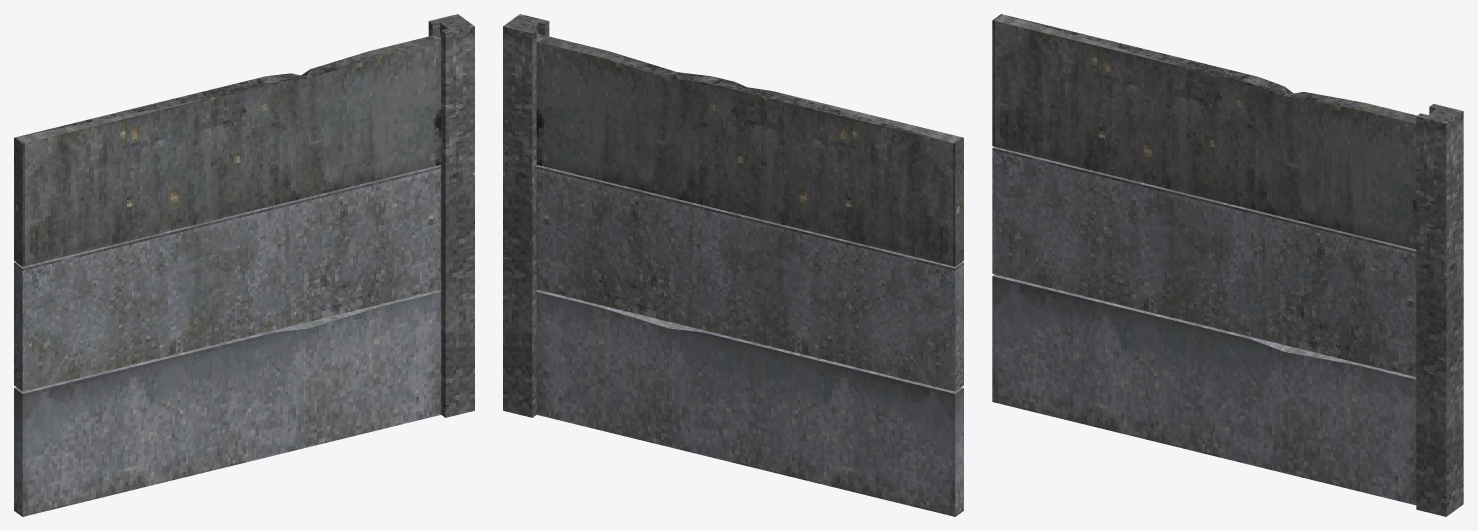
File: plackard_closed.glb
The picture shows the model from 3 angles, left to right: view 1: azimuth 30°, elevation 25°; view 2: azimuth 150°, elevation 25°; view 3: azimuth 330°, elevation 25°; orthographic projection. The views are drawn at different scales.
Parts seen in each view (by area): view 1: plackard_closed; view 2: plackard_closed; view 3: plackard_closed.
Boxes of the visible parts, bbox=[...] form: plackard_closed: bbox=[14, 14, 474, 516]; plackard_closed: bbox=[503, 14, 963, 516]; plackard_closed: bbox=[992, 14, 1463, 516].
Size of the model in its own units: 3.81 by 3.12 by 0.25.
Materials: 1 (1 with a texture image).
